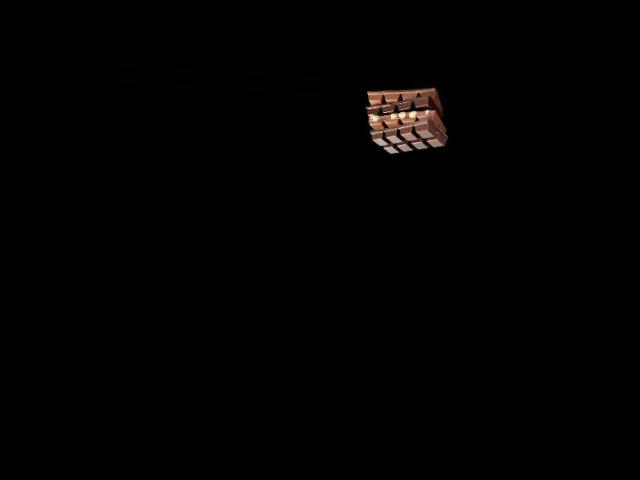chocolate: (364, 80, 445, 156)
